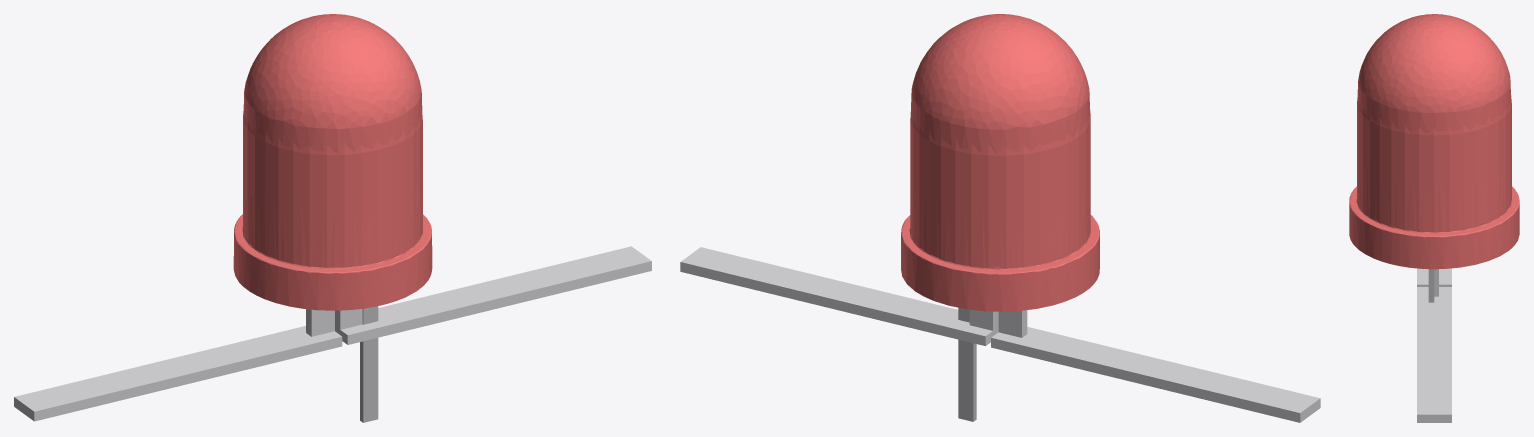
File: LED_5mm.fbx
The picture shows the model from 3 angles, left to right: view 1: azimuth 30°, elevation 25°; view 2: azimuth 150°, elevation 25°; view 3: azimuth 270°, elevation 25°; orthographic projection. The views are drawn at different scales.
Visible parts, largest first — view 1: LED_Bulbo_Emisivo, LED_Patas, LED_Interior; view 2: LED_Bulbo_Emisivo, LED_Patas, LED_Interior; view 3: LED_Bulbo_Emisivo, LED_Patas, LED_Interior.
Boxes of the visible parts, x1,y1,x2,y2 form: LED_Bulbo_Emisivo: (233,14,432,310); LED_Patas: (14,246,651,421); LED_Interior: (360,306,378,422); LED_Bulbo_Emisivo: (901,14,1099,311); LED_Patas: (680,247,1320,422); LED_Interior: (958,307,976,421); LED_Bulbo_Emisivo: (1349,14,1519,269); LED_Patas: (1417,268,1451,422); LED_Interior: (1428,269,1434,302).
Size of the model in its own units: 0.0792 by 0.0497 by 0.022.
